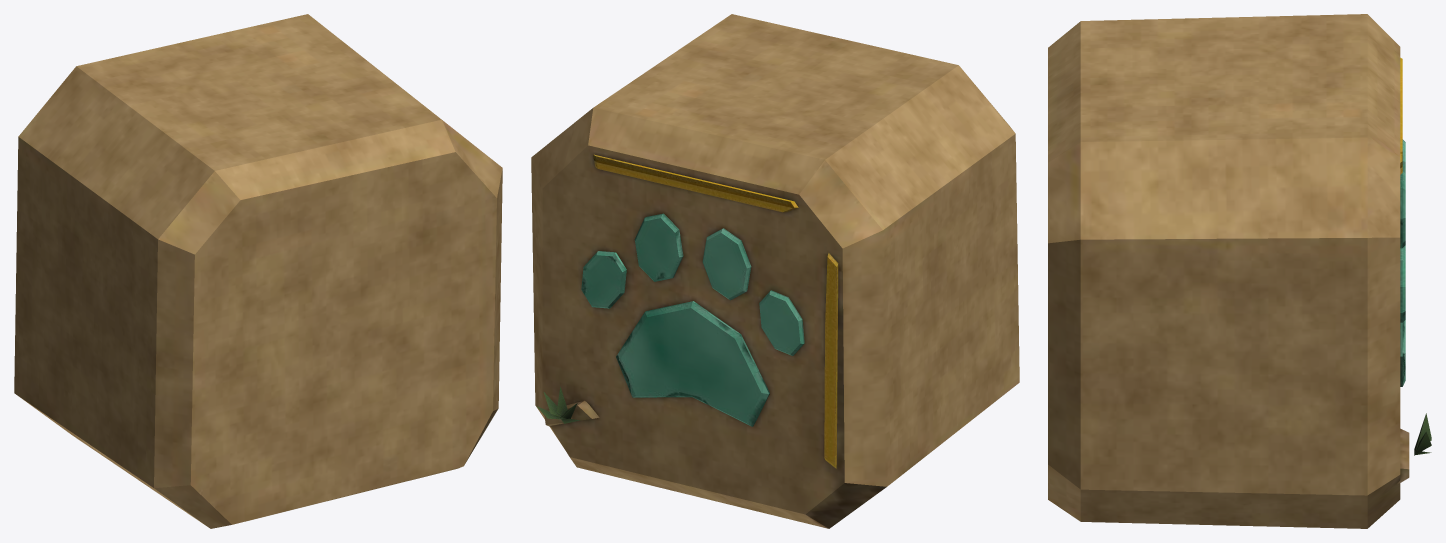
The picture shows the model from 3 angles, left to right: view 1: azimuth 30°, elevation 25°; view 2: azimuth 150°, elevation 25°; view 3: azimuth 270°, elevation 25°; orthographic projection. The views are drawn at different scales.
Visible parts, largest first — view 1: Weathered_sandstone; view 2: Weathered_sandstone, Polished_jade_inlay, Thin_hammered_gold_leaf, Tiny_moss_tuft; view 3: Weathered_sandstone, Polished_jade_inlay.
Boxes of the visible parts, x1,y1,x2,y2 form: Weathered_sandstone: (14, 14, 502, 528); Weathered_sandstone: (531, 14, 1019, 528); Polished_jade_inlay: (581, 213, 804, 426); Thin_hammered_gold_leaf: (593, 154, 838, 468); Tiny_moss_tuft: (536, 386, 580, 423); Weathered_sandstone: (1048, 14, 1409, 528); Polished_jade_inlay: (1400, 139, 1405, 386).
Bounding box in the file's own units: 0.86 × 0.85 × 0.763.
Materials: 4 (4 with a texture image).
